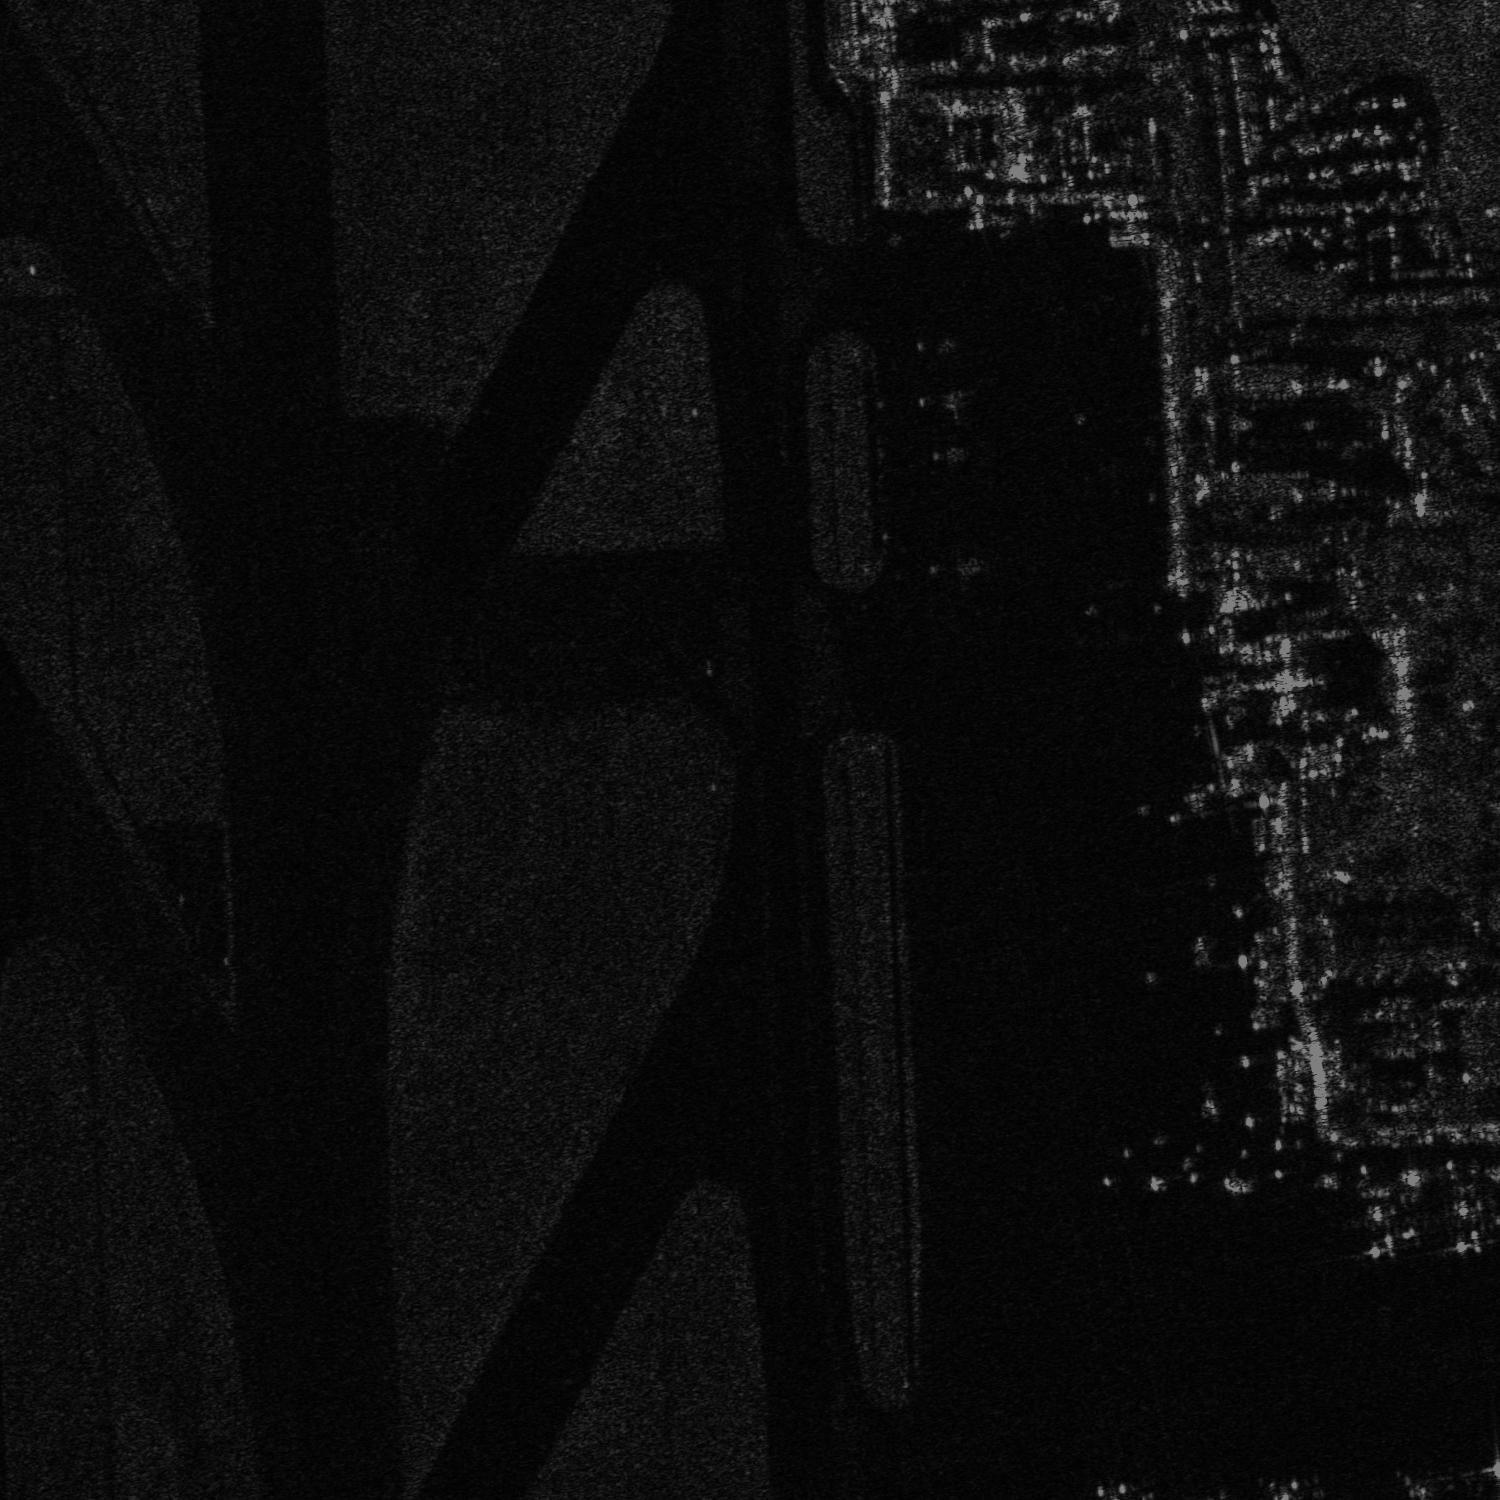ARJ21: (909, 378, 978, 422), (920, 433, 977, 473)
Boeing737: (1342, 1176, 1430, 1262)
other: (1440, 1172, 1499, 1255), (900, 323, 967, 365), (927, 543, 990, 585), (1088, 1471, 1135, 1499), (1397, 1474, 1445, 1499), (1266, 1478, 1315, 1499)
